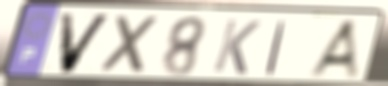8: (158, 14, 209, 77)
A: (305, 18, 363, 82)
I: (263, 19, 289, 77)
K: (209, 17, 264, 77)
V: (57, 11, 116, 76)
X: (98, 13, 164, 76)
